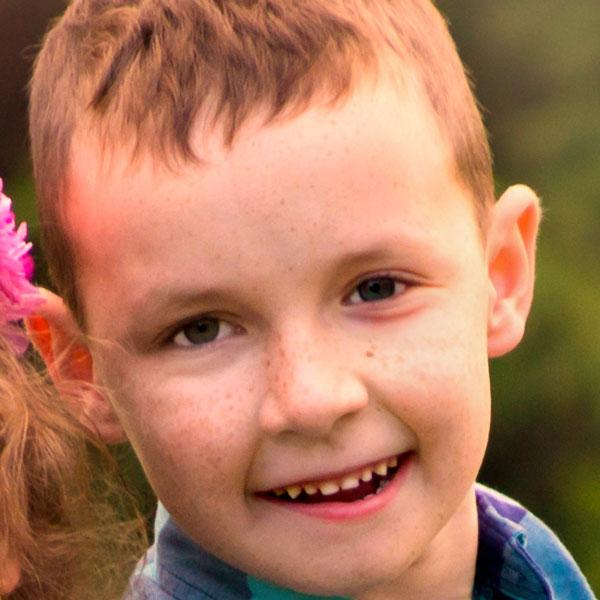Eyes: (324, 256, 436, 321), (146, 299, 259, 362)
